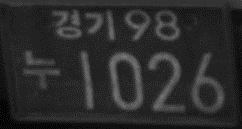0: (107, 50, 145, 111)
1: (71, 49, 104, 111)
2: (146, 50, 184, 113)
6: (190, 52, 225, 114)
8: (154, 7, 179, 40)
9: (124, 8, 151, 40)
경기_O: (51, 9, 116, 41)
누: (22, 49, 60, 90)
